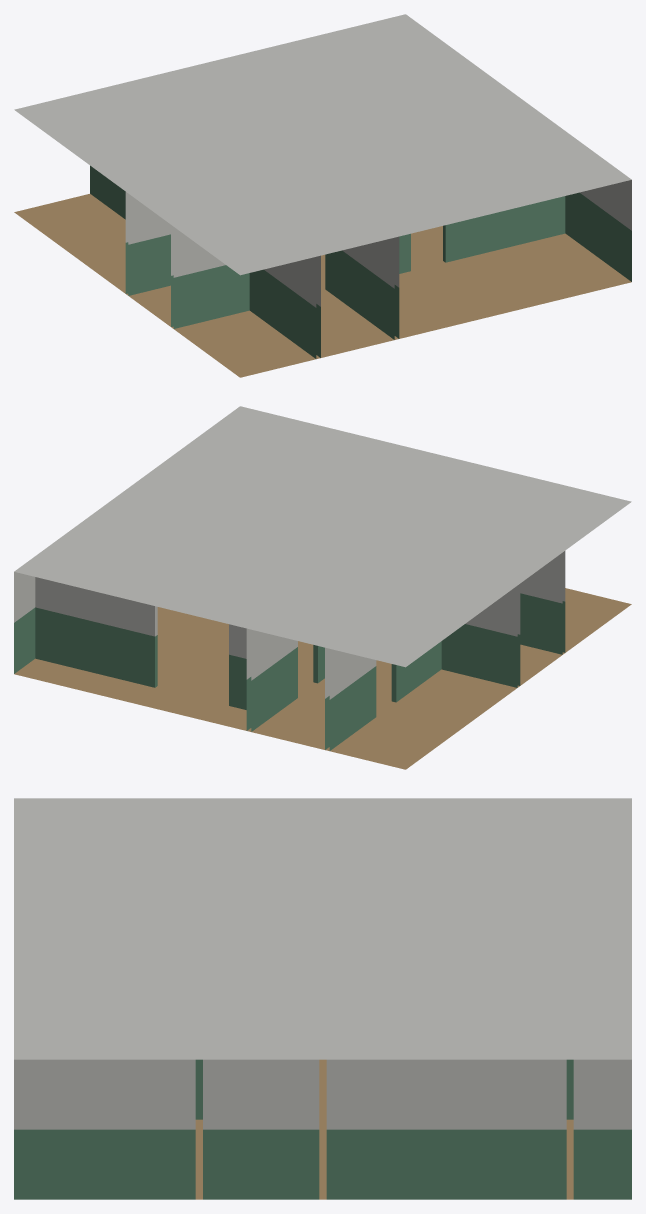
File: chunk_3_1.glb
The picture shows the model from 3 angles, top to bottom: view 1: azimuth 30°, elevation 25°; view 2: azimuth 150°, elevation 25°; view 3: azimuth 270°, elevation 25°; orthographic projection. The views are drawn at different scales.
Visible parts, largest first — view 1: chunk_3_1; view 2: chunk_3_1; view 3: chunk_3_1.
Boxes of the visible parts, x1,y1,x2,y2 form: chunk_3_1: (14, 14, 631, 377); chunk_3_1: (14, 406, 631, 769); chunk_3_1: (14, 798, 631, 1199).
Size of the model in its own units: 12 by 3 by 12.
